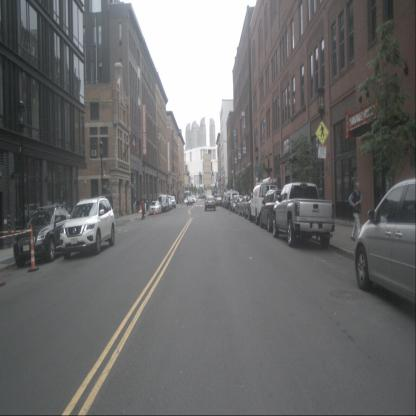human-pedestrian-adult: (348, 182, 363, 241), (140, 196, 145, 220), (136, 198, 140, 213), (146, 198, 148, 212)
movable_object-trafficcone: (28, 223, 40, 273), (153, 206, 156, 217), (138, 209, 143, 213)
vehicle-bicycle: (226, 192, 232, 214)
vehicle-car: (353, 176, 416, 307), (13, 204, 79, 268), (60, 196, 116, 260), (260, 187, 297, 233), (250, 183, 280, 225), (244, 194, 264, 220), (238, 196, 257, 217), (156, 194, 170, 213), (235, 198, 249, 216), (232, 195, 244, 212), (204, 195, 216, 211), (149, 200, 161, 216), (222, 191, 232, 208), (168, 196, 176, 209), (165, 198, 172, 210), (213, 194, 221, 204), (187, 196, 193, 207), (216, 197, 223, 206), (191, 194, 195, 203)
vehicle-truck: (272, 182, 336, 249), (184, 190, 191, 202), (207, 189, 212, 201), (212, 190, 218, 200)
